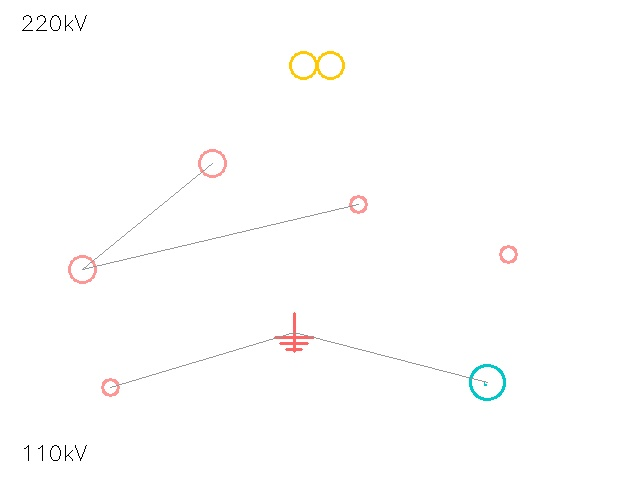feeder_terminal: (56, 243, 108, 295), (93, 370, 127, 404)
generator: (470, 365, 504, 399)
ground: (275, 313, 313, 351)
reactor: (492, 238, 524, 270)
surge_arrester: (341, 187, 375, 221)
transformer_2w: (283, 31, 351, 99)
voltage_transformer: (186, 137, 238, 189)
